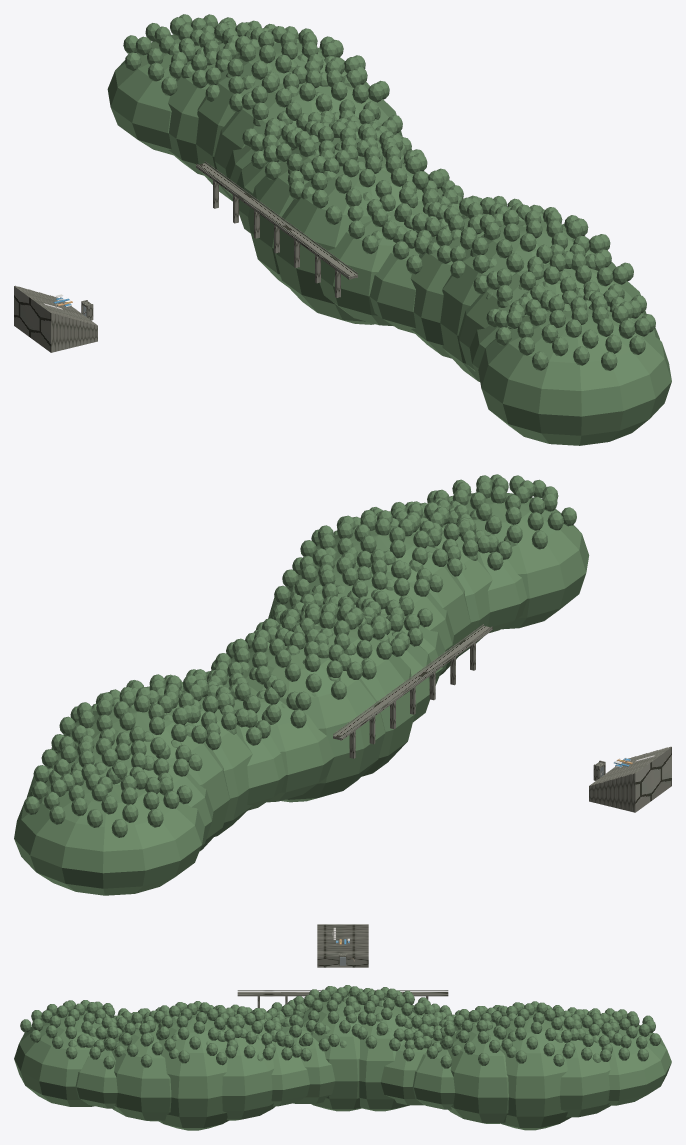
The picture shows the model from 3 angles, top to bottom: view 1: azimuth 30°, elevation 25°; view 2: azimuth 150°, elevation 25°; view 3: azimuth 270°, elevation 25°; orthographic projection. The views are drawn at different scales.
Parts seen in each view (by area): view 1: Sphere, slope-0; view 2: Sphere, slope-0; view 3: Sphere, slope-0.
Boxes of the visible parts, <box> form: Sphere: <box>107,14,671,445</box>; slope-0: <box>14,161,357,352</box>; Sphere: <box>14,474,589,895</box>; slope-0: <box>333,624,671,812</box>; Sphere: <box>14,985,671,1130</box>; slope-0: <box>237,924,448,1007</box>.
Size of the model in its own units: 321 by 109 by 562.
3 materials, 3 textured.
